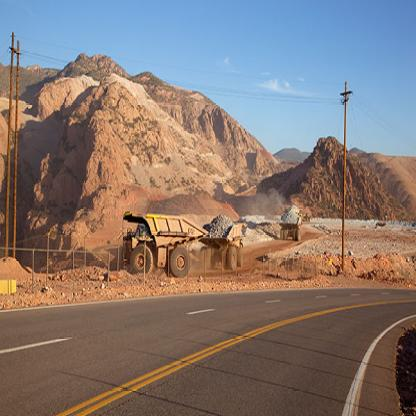dump_truck: (121, 202, 205, 283), (206, 213, 250, 274), (277, 204, 301, 241)
